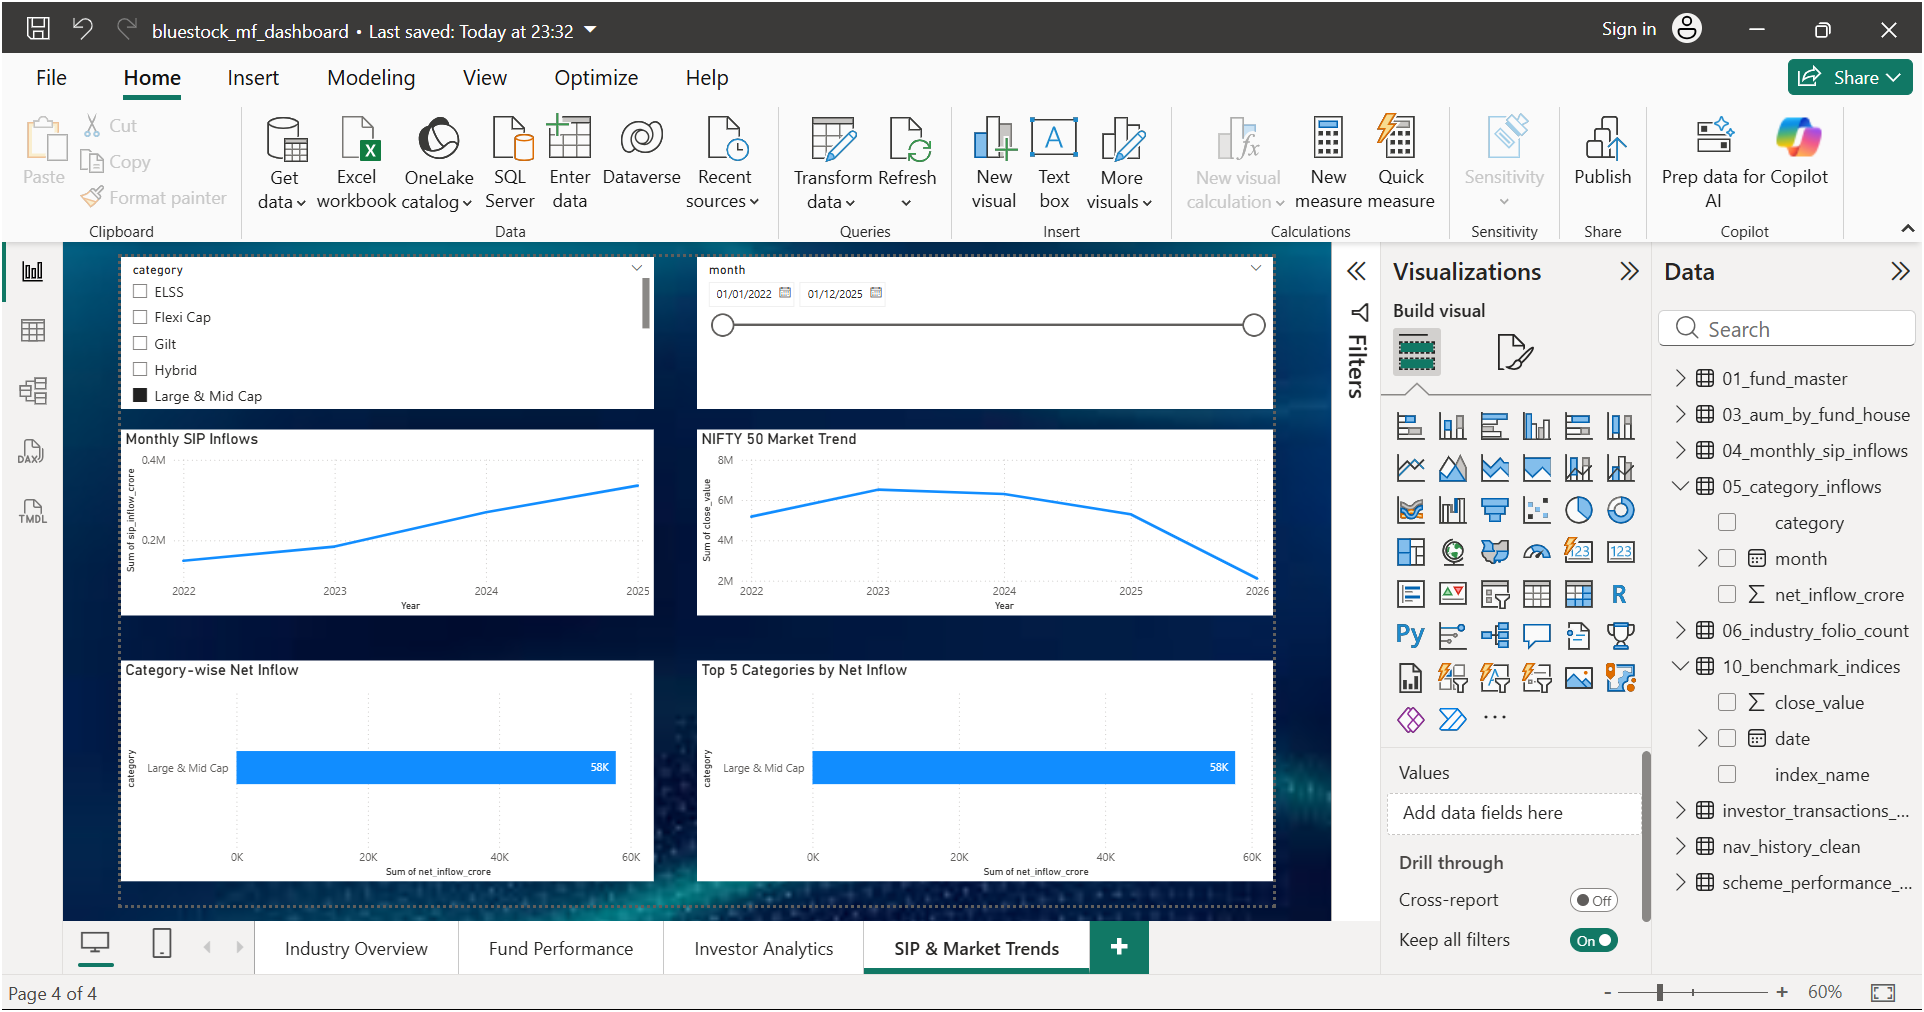

This screenshot's page, from the dashboard's own definition file:
{"tool":"powerbi","page":{"name":"SIP & Market Trends","canvas":[1280,720],"ordinal":3},"visuals":[{"type":"slicer","fields":{"Values":["04_monthly_sip_inflows.month"]},"box":[640,0,640,168],"z":0},{"type":"slicer","fields":{"Values":["05_category_inflows.category"]},"box":[0,0,592,168],"z":1000},{"type":"lineChart","title":"Monthly SIP Inflows","fields":{"Category":["04_monthly_sip_inflows.month.Variation.Date Hierarchy.Year","04_monthly_sip_inflows.month.Variation.Date Hierarchy.Quarter","04_monthly_sip_inflows.month.Variation.Date Hierarchy.Month","04_monthly_sip_inflows.month.Variation.Date Hierarchy.Day"],"Y":["Sum(04_monthly_sip_inflows.sip_inflow_crore)"]},"box":[0,191.7,591.7,206.7],"z":2000},{"type":"lineChart","title":"NIFTY 50 Market Trend","fields":{"Category":["10_benchmark_indices.date.Variation.Date Hierarchy.Year","10_benchmark_indices.date.Variation.Date Hierarchy.Quarter","10_benchmark_indices.date.Variation.Date Hierarchy.Month","10_benchmark_indices.date.Variation.Date Hierarchy.Day"],"Y":["Sum(10_benchmark_indices.close_value)"]},"box":[640,191.7,640,206.7],"z":3000},{"type":"clusteredBarChart","title":"Category-wise Net Inflow","fields":{"Category":["05_category_inflows.category"],"Y":["Sum(05_category_inflows.net_inflow_crore)"]},"box":[0,448.3,591.7,245],"z":4000},{"type":"clusteredBarChart","title":"Top 5 Categories by Net Inflow","fields":{"Category":["05_category_inflows.category"],"Y":["Sum(05_category_inflows.net_inflow_crore)"]},"box":[640,448.3,640,245],"z":4002}]}

Visuals, with their boxes on the page's 1280x720 design canvas (x1, y1, x2, y2). These are canvas units, not pixel positions in the 1924x1012 screenshot, which may show the page scaled, cropped or inside an application window:
slicer - 04_monthly_sip_inflows.month: [left=640, top=0, right=1280, bottom=168]
slicer - 05_category_inflows.category: [left=0, top=0, right=592, bottom=168]
"Monthly SIP Inflows" lineChart: [left=0, top=192, right=592, bottom=398]
"NIFTY 50 Market Trend" lineChart: [left=640, top=192, right=1280, bottom=398]
"Category-wise Net Inflow" clusteredBarChart: [left=0, top=448, right=592, bottom=693]
"Top 5 Categories by Net Inflow" clusteredBarChart: [left=640, top=448, right=1280, bottom=693]
